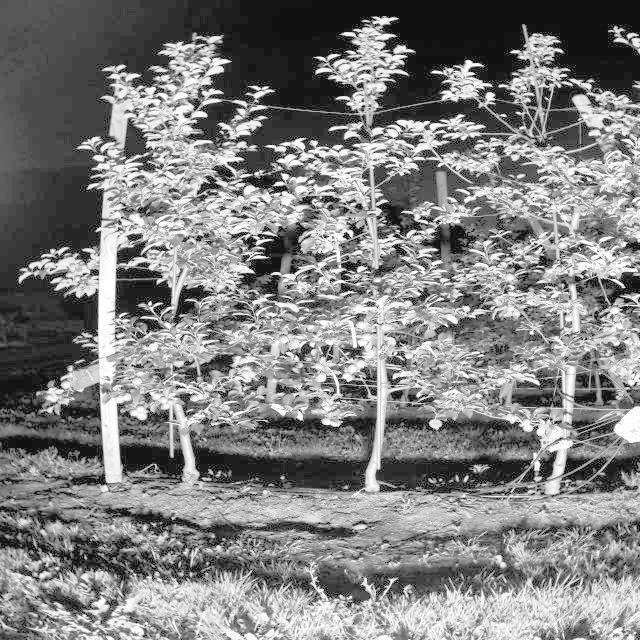Tree: (296, 10, 453, 501), (128, 37, 284, 488), (481, 25, 613, 505)
